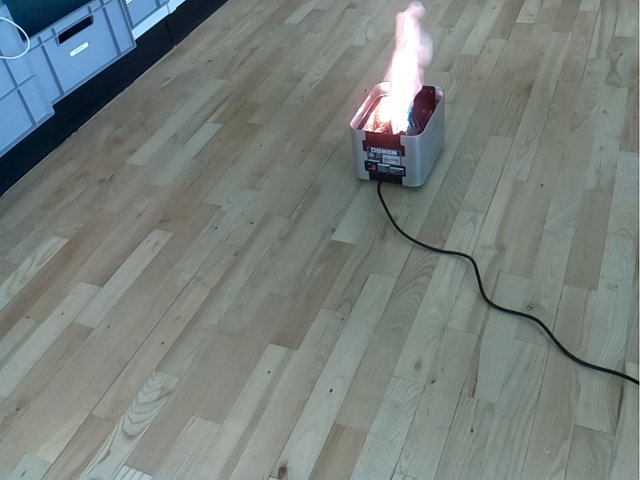fire: (377, 1, 435, 135)
